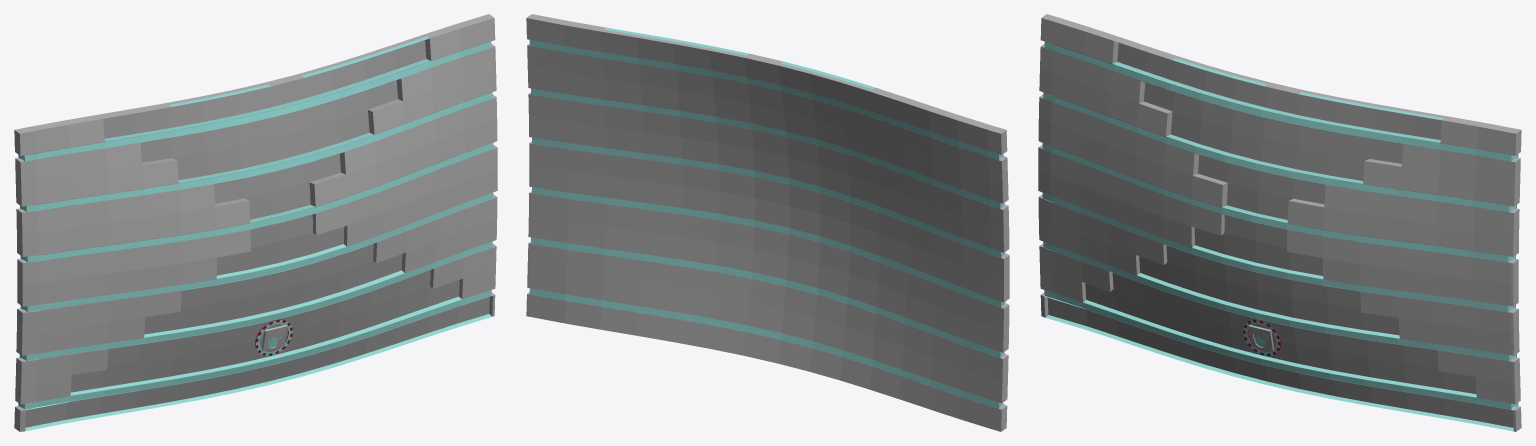
Rendered from PUERTA NAVE.fbx.
The picture shows the model from 3 angles, left to right: view 1: azimuth 30°, elevation 25°; view 2: azimuth 150°, elevation 25°; view 3: azimuth 330°, elevation 25°; orthographic projection.
Visible parts, largest first — view 1: Cube; view 2: Cube; view 3: Cube.
Boxes of the visible parts, x1,y1,x2,y2 form: Cube: (14,14,497,431); Cube: (526,14,1009,431); Cube: (1038,14,1521,431).
Size of the model in its own units: 2000 by 1200 by 229.
